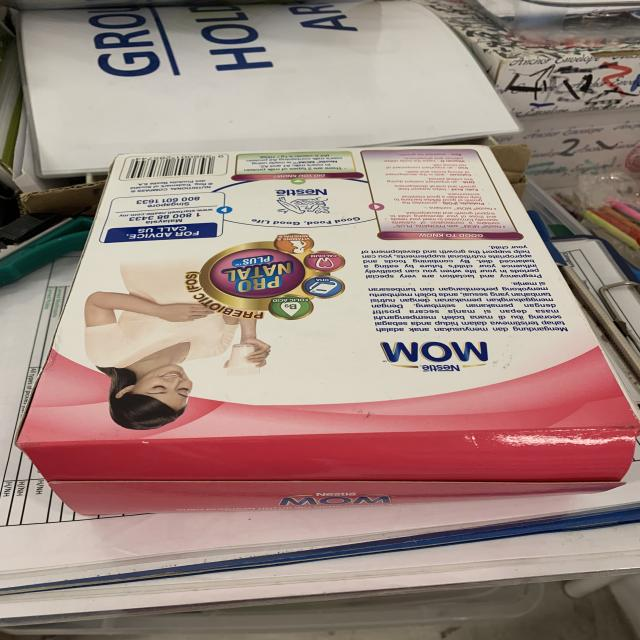object_name: (51, 156, 613, 500)
